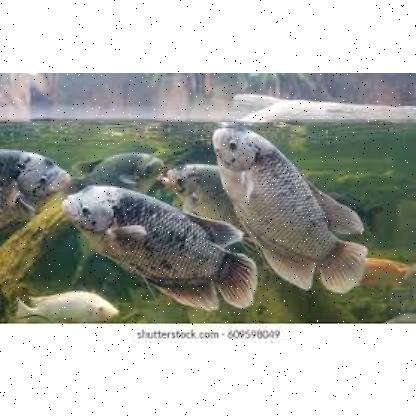gurame: (64, 183, 260, 311), (211, 121, 363, 281), (0, 149, 72, 224), (164, 160, 236, 220), (69, 148, 162, 194)
